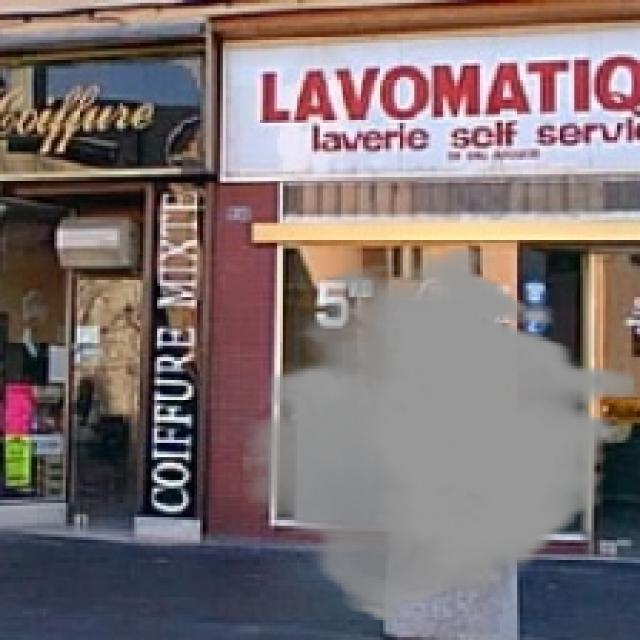smoke: (243, 246, 634, 623)
